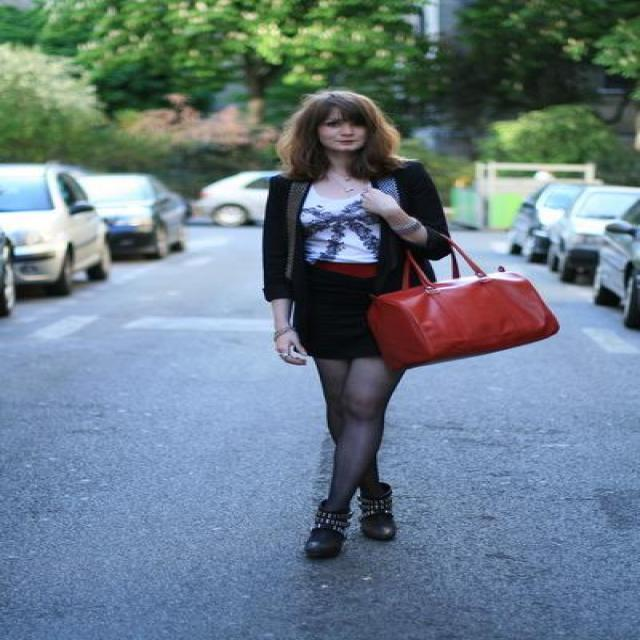bag: (368, 269, 557, 365)
jacket: (262, 158, 472, 303)
shirt: (299, 175, 386, 263)
shoe: (304, 499, 397, 561)
skirt: (293, 268, 398, 362)
